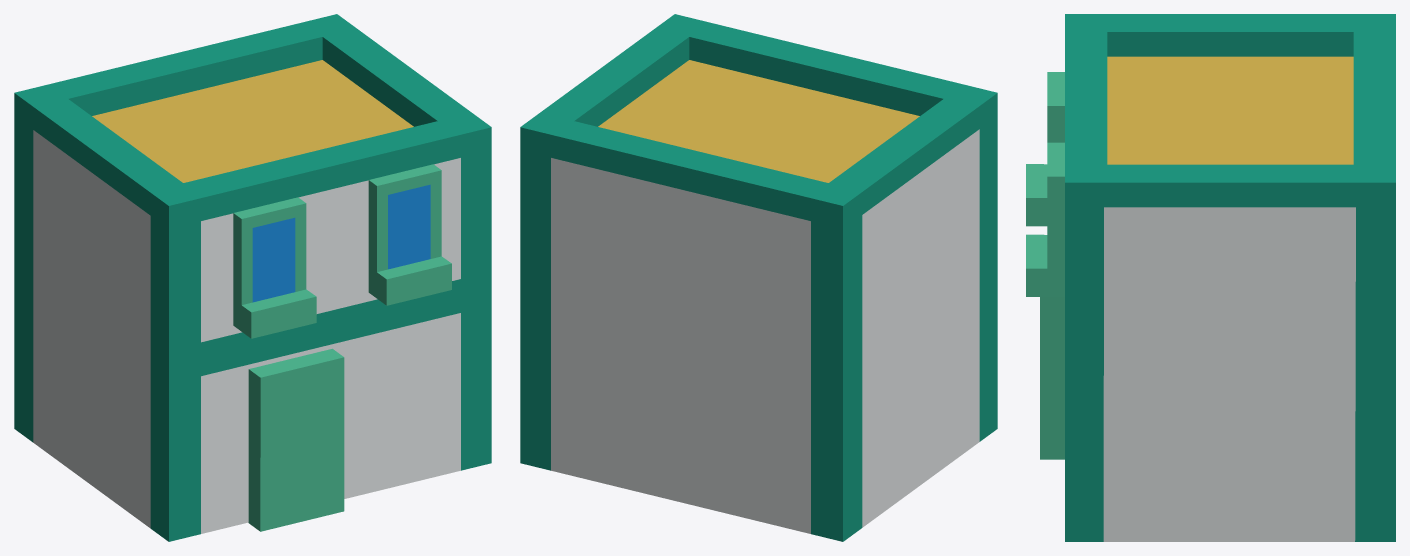
Rendered from shop02_s03.FBX.
The picture shows the model from 3 angles, left to right: view 1: azimuth 30°, elevation 25°; view 2: azimuth 150°, elevation 25°; view 3: azimuth 270°, elevation 25°; orthographic projection. The views are drawn at different scales.
Visible parts, largest first — view 1: shop02_s03; view 2: shop02_s03; view 3: shop02_s03.
Boxes of the visible parts, left/top/right/bottom form: shop02_s03: left=14, top=14, right=491, bottom=541; shop02_s03: left=520, top=14, right=997, bottom=541; shop02_s03: left=1026, top=14, right=1395, bottom=541.
Bounding box in the file's own units: 414 × 384 × 413.
1 material, 1 textured.
